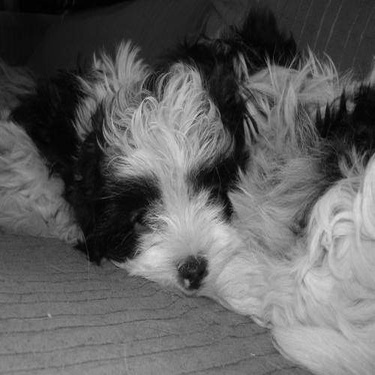dog: (6, 10, 364, 365)
